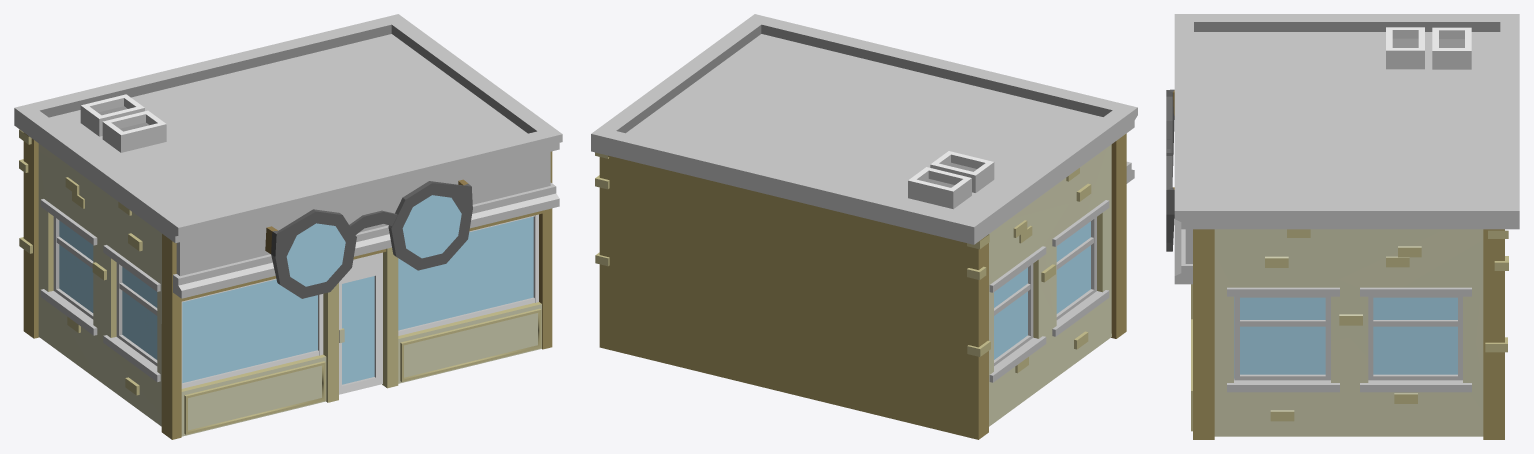
The model's file is services_store_004.fbx.
The picture shows the model from 3 angles, left to right: view 1: azimuth 30°, elevation 25°; view 2: azimuth 150°, elevation 25°; view 3: azimuth 270°, elevation 25°; orthographic projection. The views are drawn at different scales.
Parts seen in each view (by area): view 1: services_store_004; view 2: services_store_004; view 3: services_store_004.
Boxes of the visible parts, x1,y1,x2,y2 form: services_store_004: (14, 14, 562, 439); services_store_004: (591, 14, 1137, 439); services_store_004: (1166, 14, 1519, 439).
Size of the model in its own units: 683 by 385 by 515.
